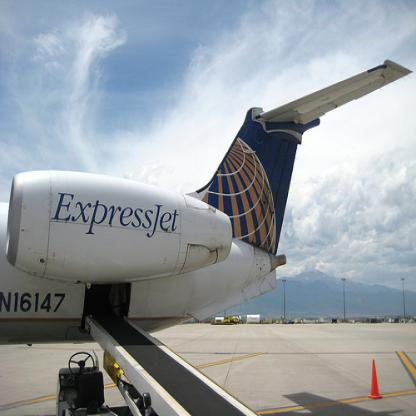aeroplane: (0, 59, 413, 415)
